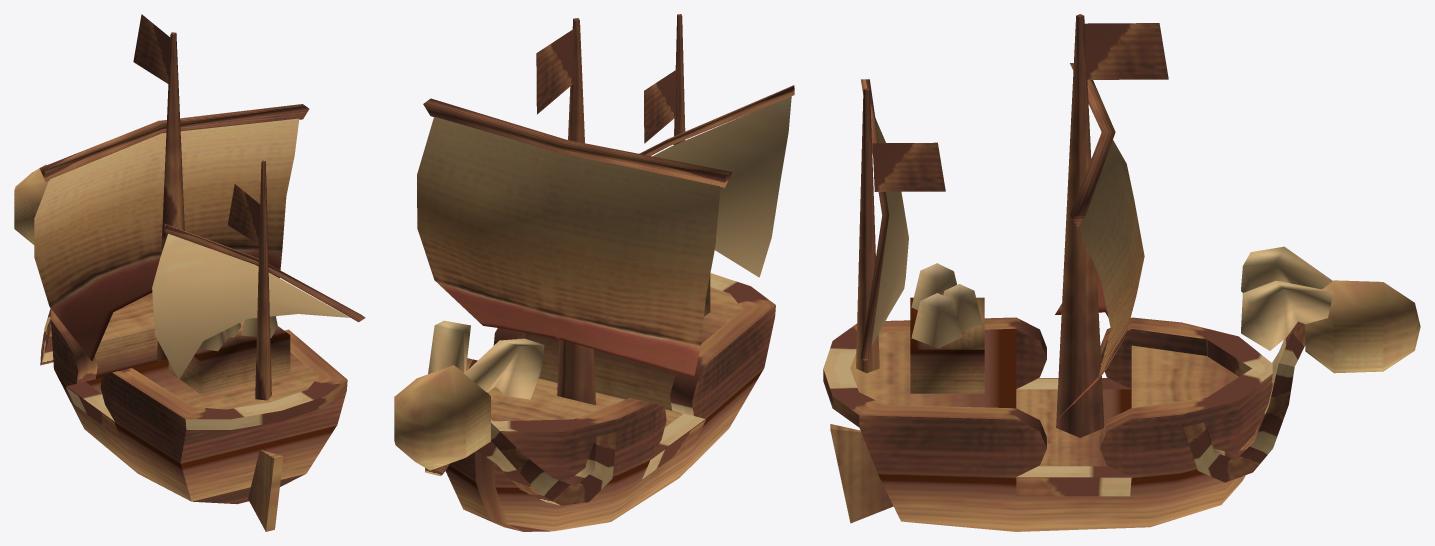
File: memicon.ico.obj
3 views of the same model, side by side, from view 1: azimuth 30°, elevation 25°; view 2: azimuth 150°, elevation 25°; view 3: azimuth 270°, elevation 25° (orthographic). The views are drawn at different scales.
Size of the model in its own units: 2.92 by 4.52 by 4.84.
